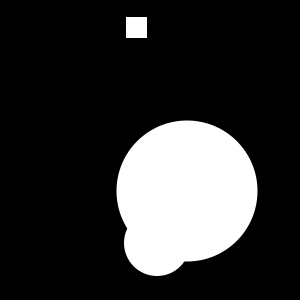circle: (126, 17, 147, 38)
rectangle: (116, 121, 258, 262), (124, 210, 190, 276)
